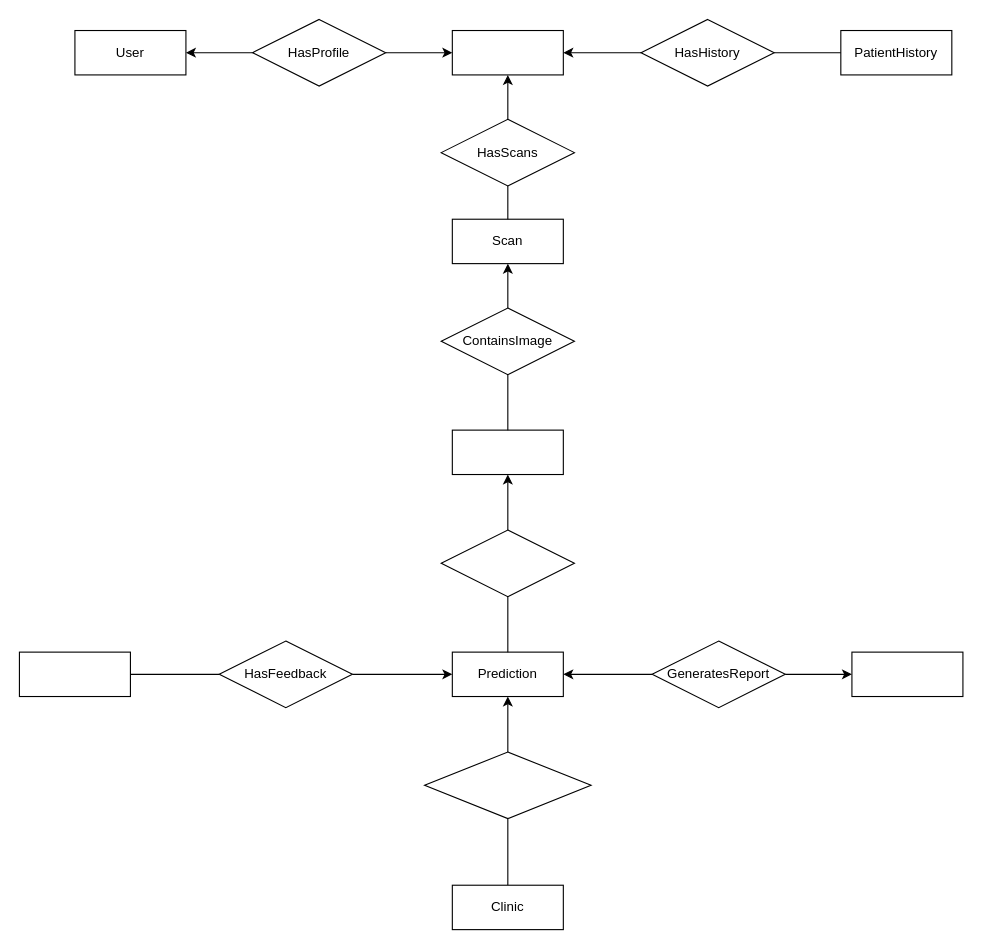
The diagram is 982 pixels wide and 949 high, and some of its shapes have lost their labels. The shapes that lost their labels are listed below. From the top down, each one's centre as x and y in pixels, then its label:
At pixel 507 52: "PatientProfile".
At pixel 507 452: "ScanImage".
At pixel 507 563: "HasPrediction".
At pixel 74 674: "Feedback".
At pixel 907 674: "Report".
At pixel 507 785: "RecommendsClinic".
